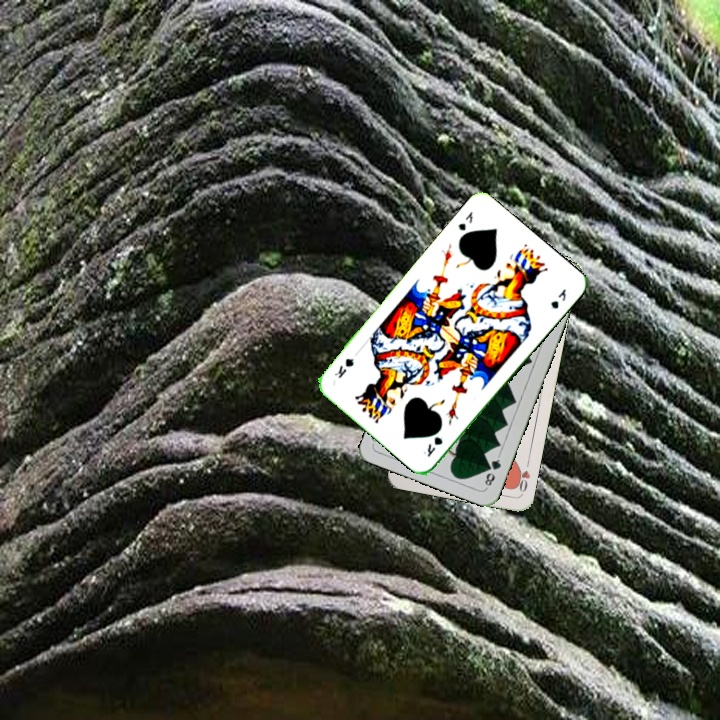G8: (481, 451, 504, 491)
GK: (419, 432, 445, 460), (454, 207, 475, 233)
HO: (511, 456, 533, 496)
